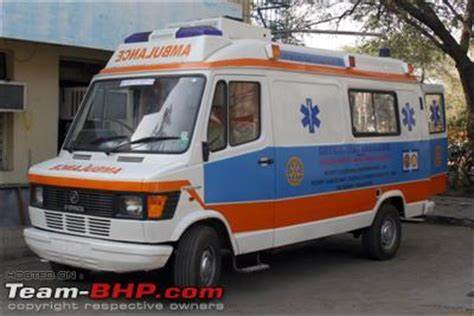ambulance: (21, 25, 457, 278)
